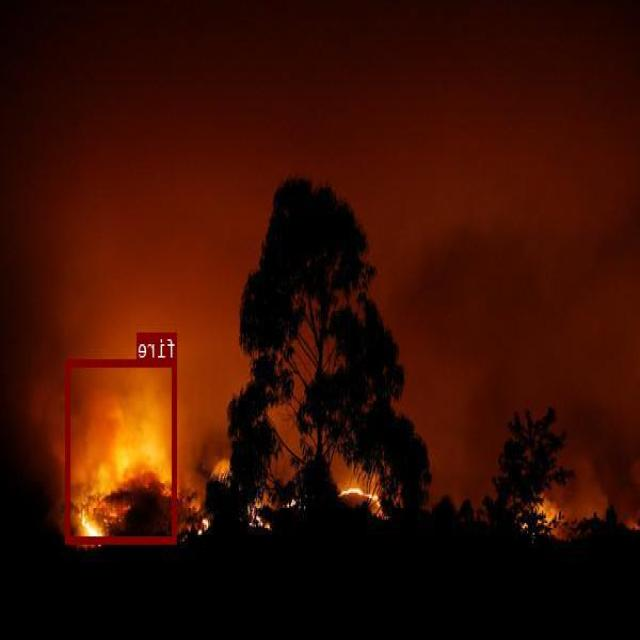fire: (67, 359, 177, 542)
